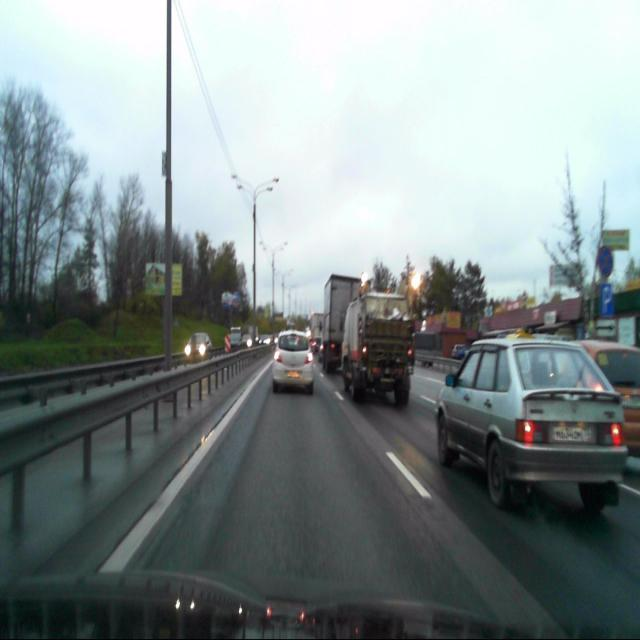road sign: (598, 283, 615, 314), (596, 319, 616, 337)
